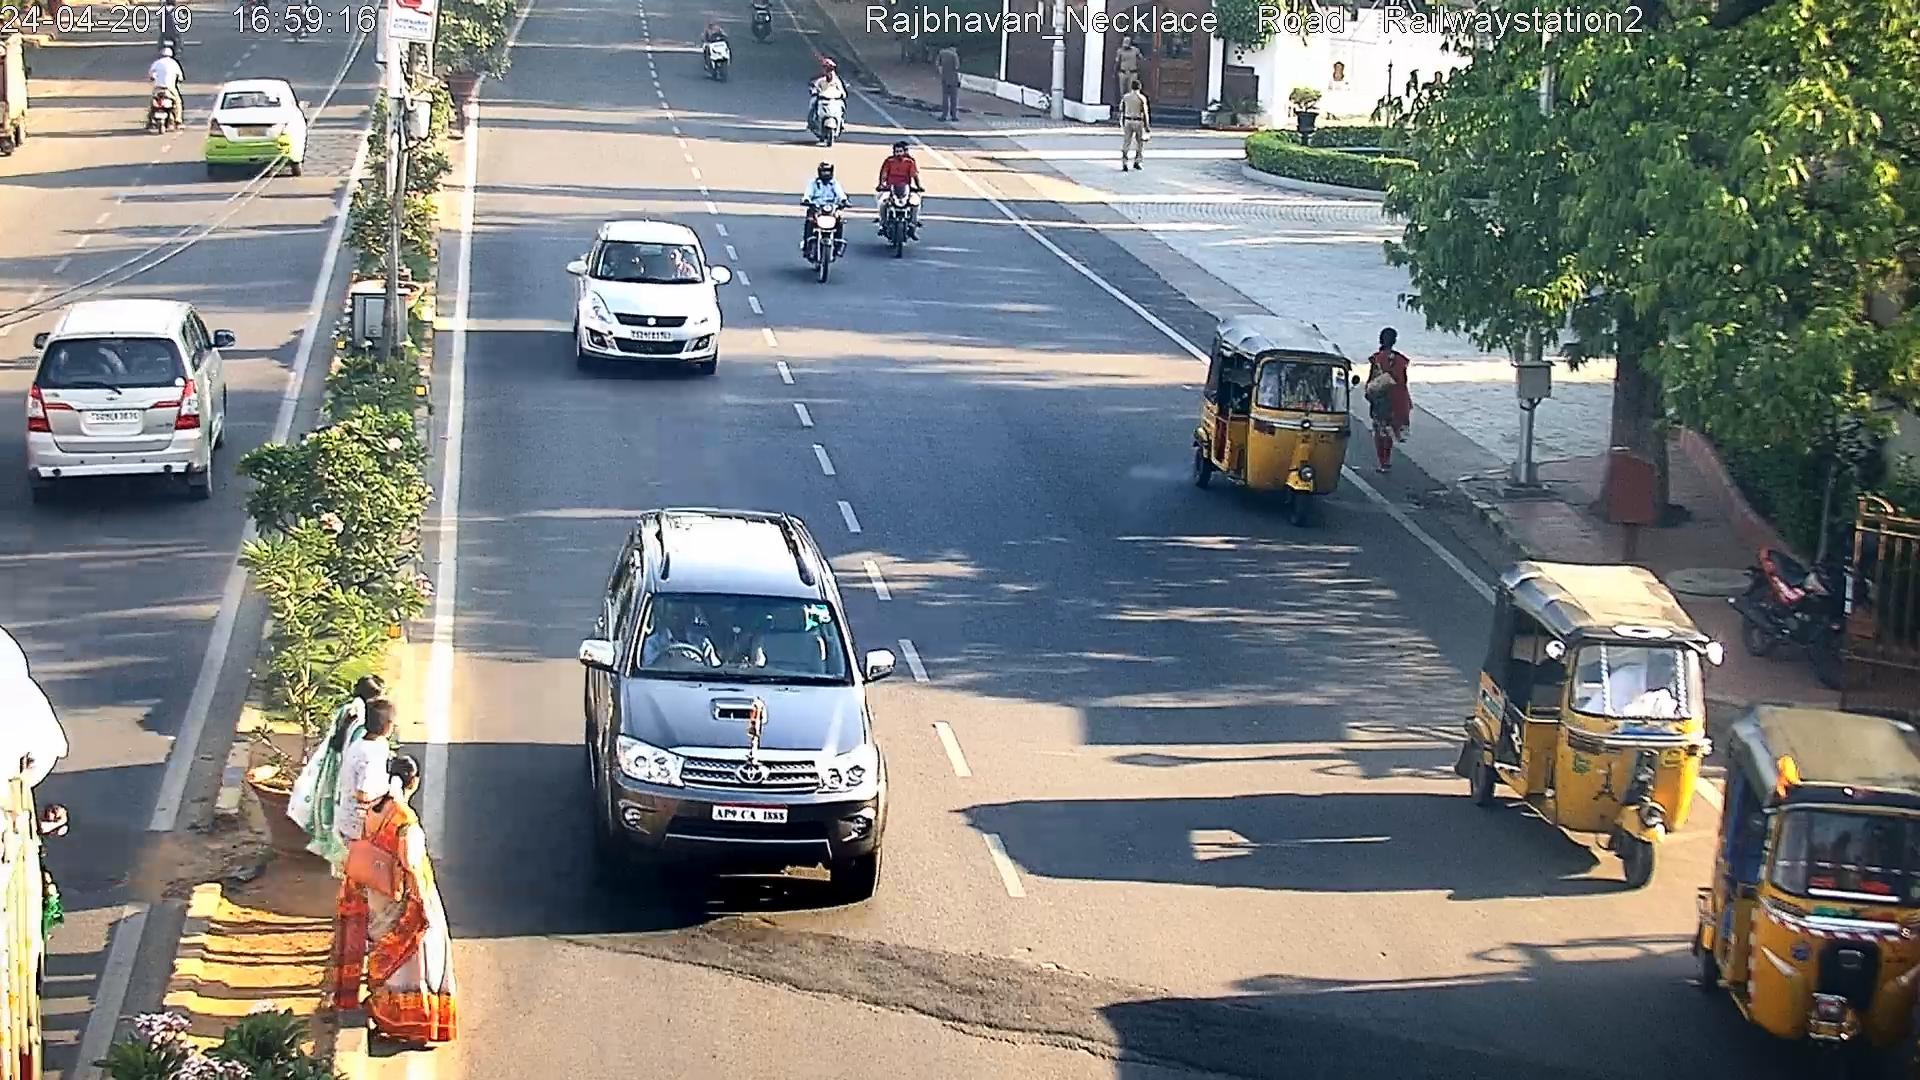2Wheeler: (799, 154, 852, 285), (876, 136, 924, 261), (142, 45, 191, 140), (811, 54, 855, 145), (698, 15, 740, 87)
